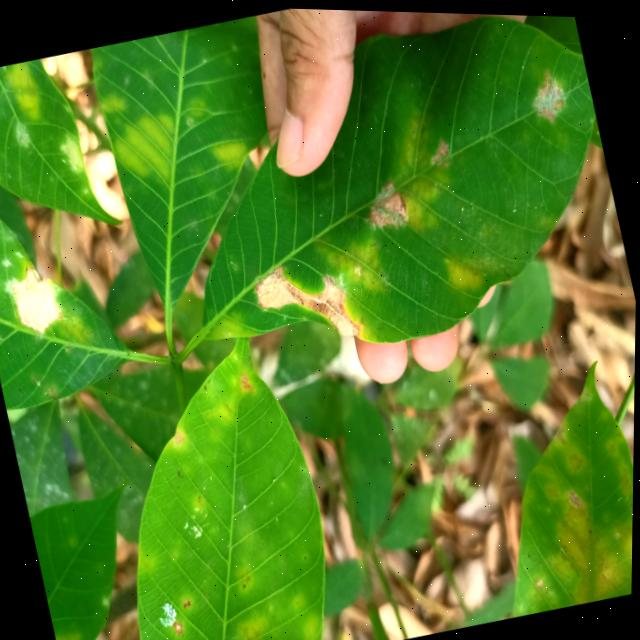Leaf-Blight: (250, 247, 363, 354), (8, 260, 66, 336)
